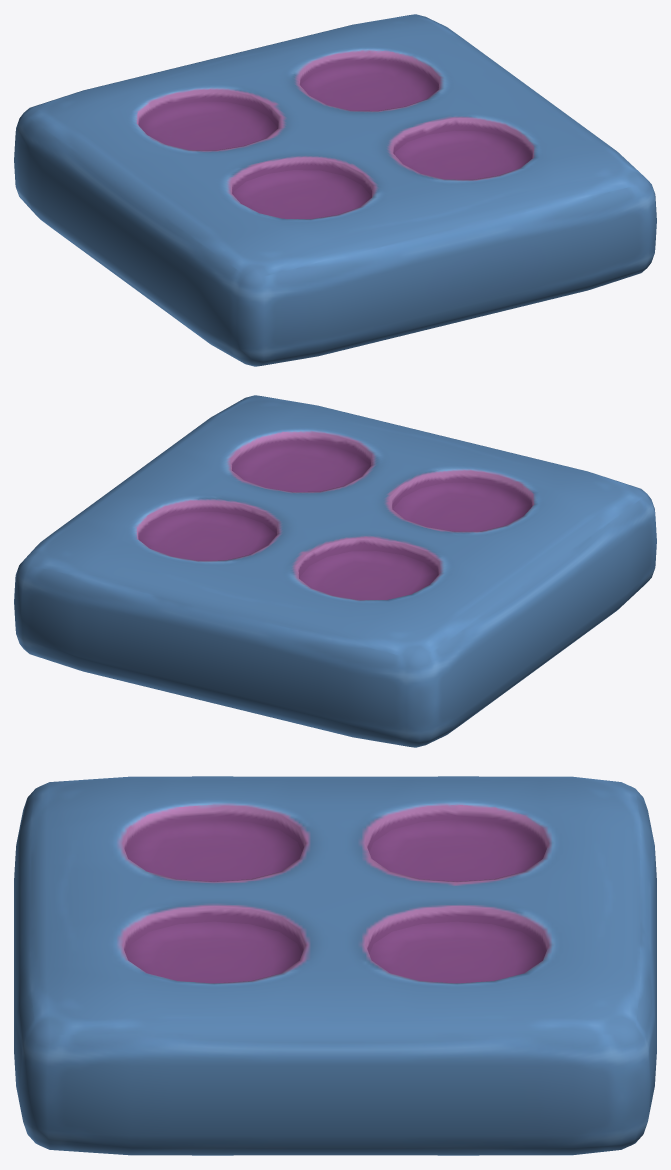
Rendered from arena block 3.fbx.
3 views of the same model, one above another, from view 1: azimuth 30°, elevation 25°; view 2: azimuth 150°, elevation 25°; view 3: azimuth 270°, elevation 25° (orthographic). The views are drawn at different scales.
Parts seen in each view (by area): view 1: arena block 3 lp.002; view 2: arena block 3 lp.002; view 3: arena block 3 lp.002.
Boxes of the visible parts, x1,y1,x2,y2 form: arena block 3 lp.002: [14, 14, 656, 366]; arena block 3 lp.002: [14, 395, 656, 747]; arena block 3 lp.002: [14, 776, 656, 1155].
Size of the model in its own units: 200 by 49.89 by 200.
